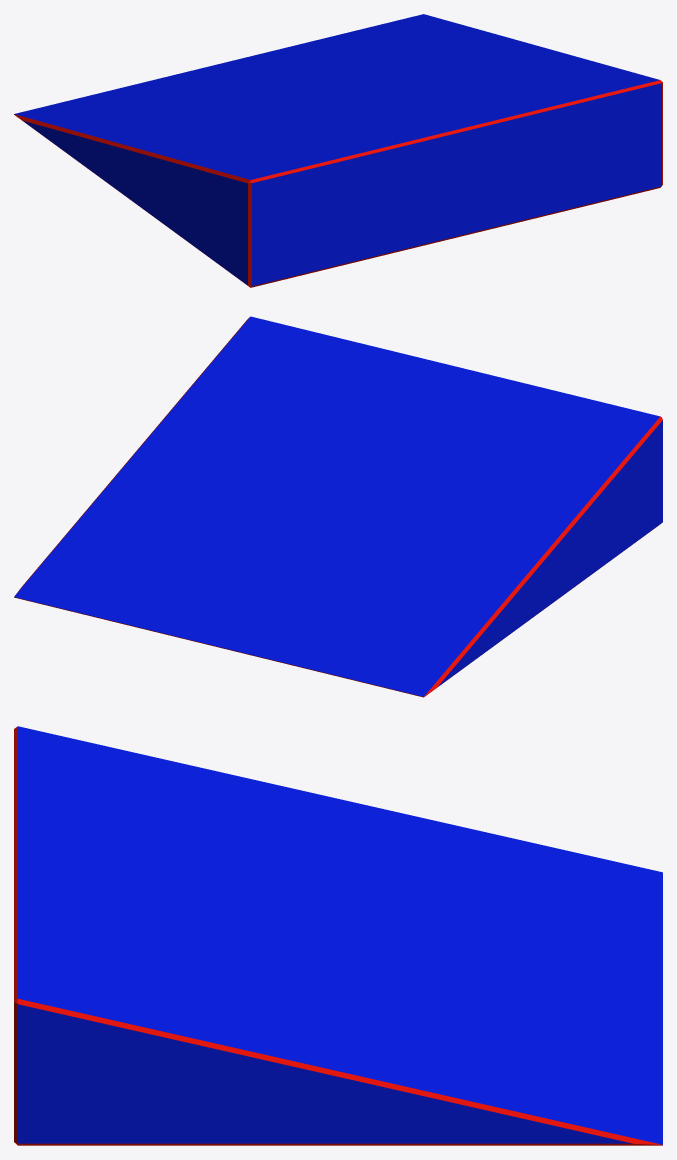
File: L9_Ramp.fbx
3 renders of one model, top to bottom at view 1: azimuth 30°, elevation 25°; view 2: azimuth 150°, elevation 25°; view 3: azimuth 270°, elevation 25°, orthographic. The views are drawn at different scales.
Visible parts, largest first — view 1: L9_Ramp; view 2: L9_Ramp; view 3: L9_Ramp.
Part boxes in pixels (x1=…): L9_Ramp: x1=14, y1=14, x2=662, y2=287; L9_Ramp: x1=14, y1=316, x2=662, y2=697; L9_Ramp: x1=14, y1=726, x2=662, y2=1145.
Bounding box in the file's own units: 800 × 199 × 795.
